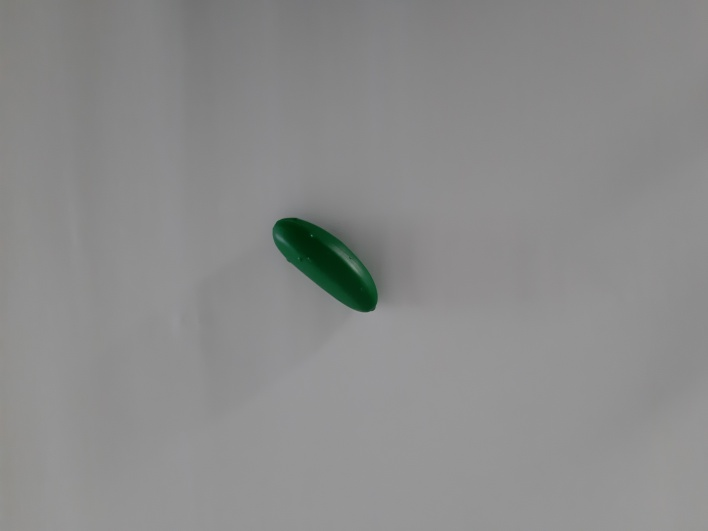cucumber: (253, 202, 395, 331)
